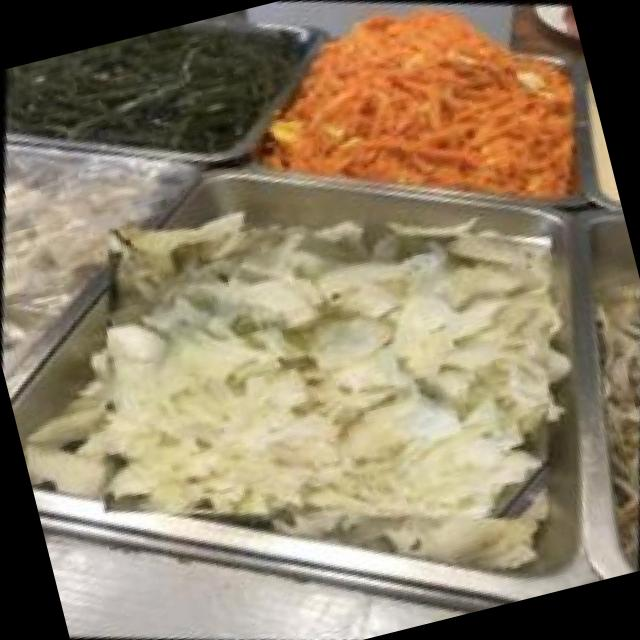carrot_eggs: (239, 0, 583, 240)
chinese_cabbage: (33, 122, 621, 626)
chinese_sausage: (552, 0, 582, 51)
mung_bean_sprouts: (560, 271, 640, 439)
